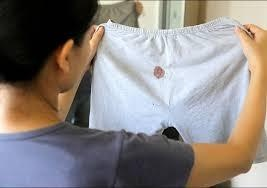blood: (153, 65, 166, 80)
